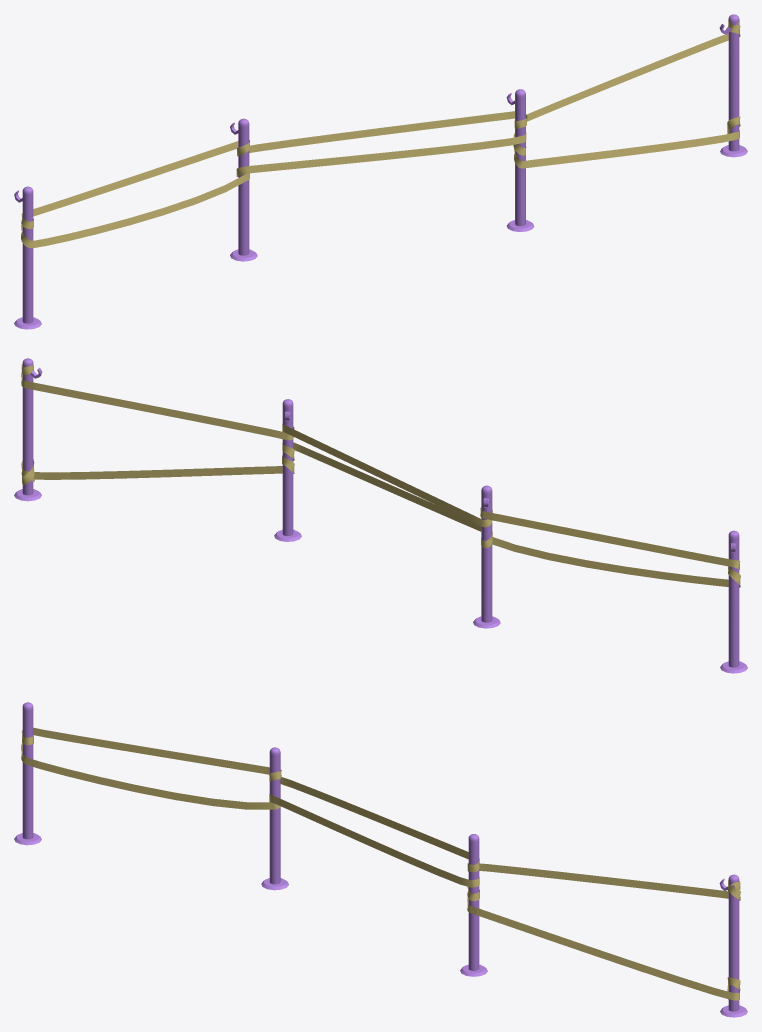
Rendered from Absperrband.fbx.
The picture shows the model from 3 angles, top to bottom: view 1: azimuth 30°, elevation 25°; view 2: azimuth 150°, elevation 25°; view 3: azimuth 330°, elevation 25°; orthographic projection.
Parts seen in each view (by area): view 1: BezierCurve, Cylinder; view 2: BezierCurve, Cylinder; view 3: BezierCurve, Cylinder.
Part boxes in pixels (bbox=[...]): BezierCurve: bbox=[21, 19, 740, 248]; Cylinder: bbox=[14, 14, 747, 329]; BezierCurve: bbox=[21, 364, 740, 587]; Cylinder: bbox=[14, 358, 747, 673]; BezierCurve: bbox=[21, 727, 740, 1000]; Cylinder: bbox=[14, 702, 747, 1017].
Size of the model in its own units: 6.15 by 1.09 by 0.7777.
